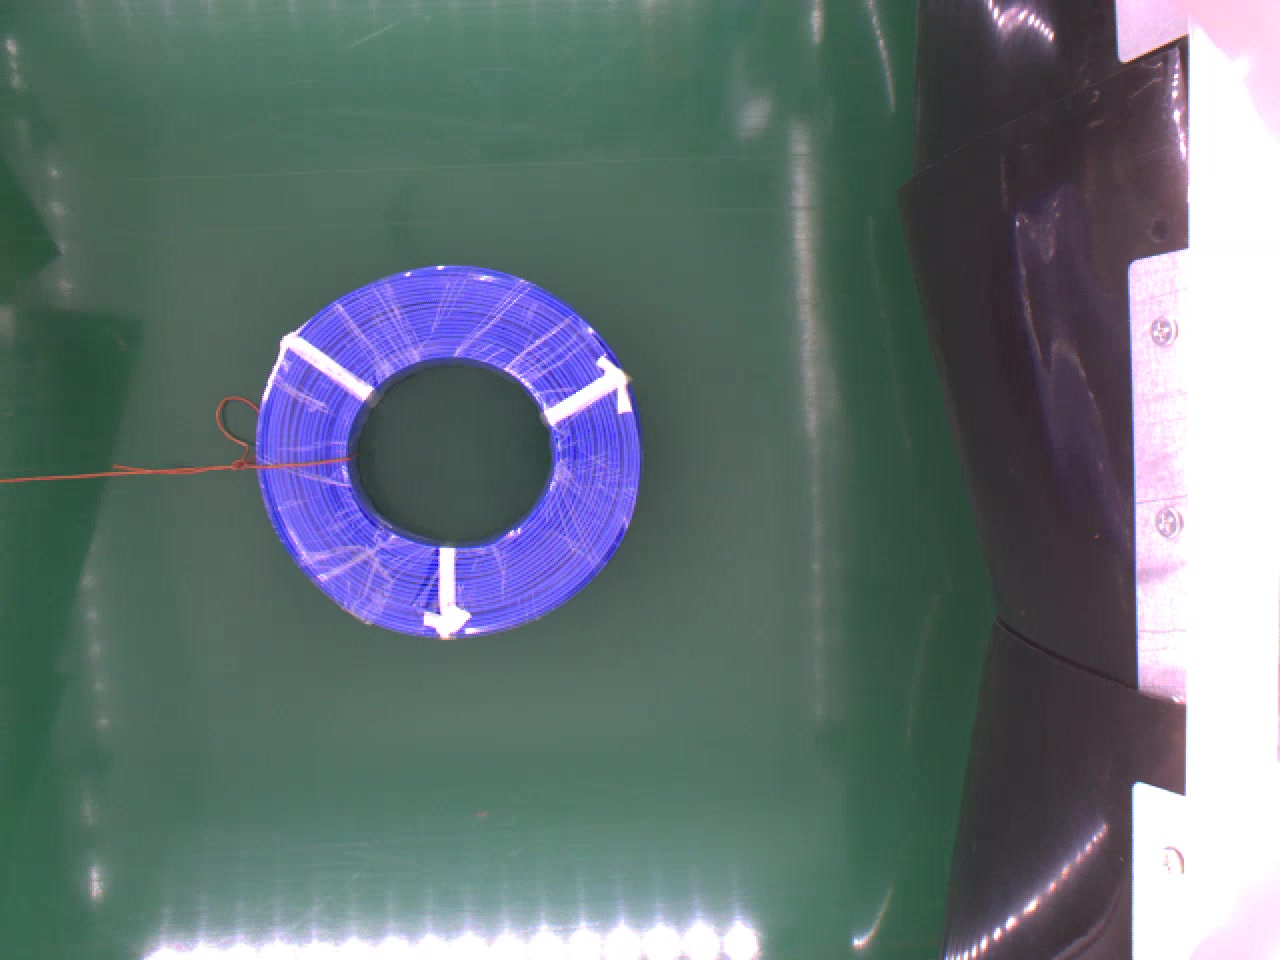blue: (254, 258, 639, 640)
